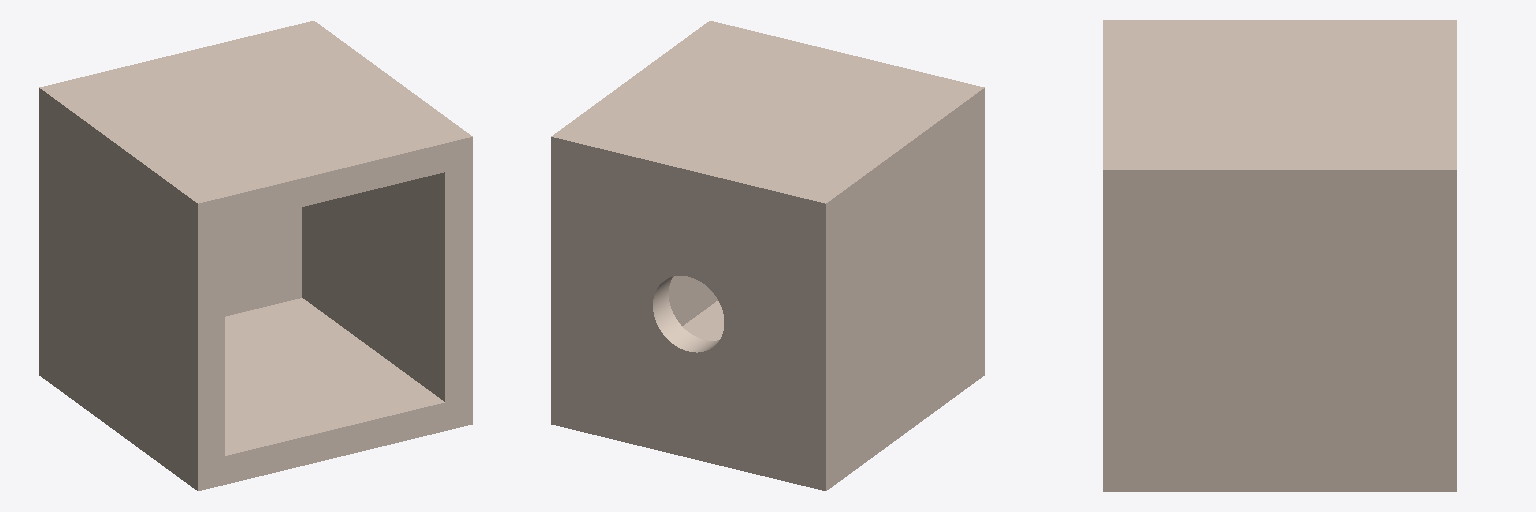
robot.urdf — board:
<?xml version="1.0"?>
<robot name="board">
    <material name="brown">
        <color rgba="0.87 0.81 0.76 1.0"/>
    </material>

    <link concave="yes" name="board">
        <inertial>
            <origin xyz="0 0 0" rpy="0 0 0"/>
            <mass value="1.86"/>
            <inertia ixx="1"  ixy="0"  ixz="0" iyy="1" iyz="0" izz="1" />
        </inertial>

        <visual>
            <origin xyz="0 0 0" rpy="0 0 0" />
            <geometry>
                <mesh filename="board_hard.obj" scale="1 1 1"/>
            </geometry>
            <material name="brown"/>
        </visual>

        <collision concave="yes">
            <origin xyz="0 0 0" rpy="0 0 0" />
            <geometry>
                <mesh filename="board_hard.obj" scale="1 1 1"/>
            </geometry>
        </collision>
    </link>

    <joint name="board__circle" type="fixed">
        <parent link="board"/>
        <child link="circle"/>
        <origin xyz="0.0 0.190 0.0" rpy="0 0 0" />
    </joint>
    
    <link name="circle" >
        <inertial>
            <origin xyz="0 0 0" rpy="0 0 0"/>
            <mass value="0"/>
            <inertia ixx="1"  ixy="0"  ixz="0" iyy="1" iyz="0" izz="1" />
        </inertial>
    </link>

</robot>

--- Render facts (derived) ---
Views: 3 orthographic renders of the robot side by side, from view 1: azimuth 30°, elevation 25°; view 2: azimuth 150°, elevation 25°; view 3: azimuth 270°, elevation 25°.
Model board with 2 links and 1 joints (1 fixed), rooted at board, posed all joints at 0.
Links seen in each view (by area): view 1: board; view 2: board; view 3: board.
Link boxes in pixels (x1,y1,x2,y2): board: (39, 21, 472, 490); board: (551, 21, 984, 490); board: (1103, 20, 1456, 491).
Bounding box of the posed robot: 0.2 × 0.2 × 0.2 m (x, y, z).
1 mesh visuals loaded from 1 distinct referenced files (1 OBJ).